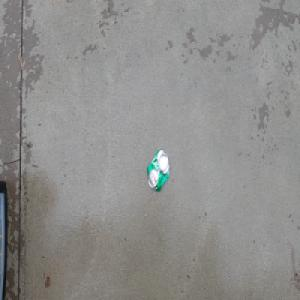SodaCan: (146, 147, 170, 193)
